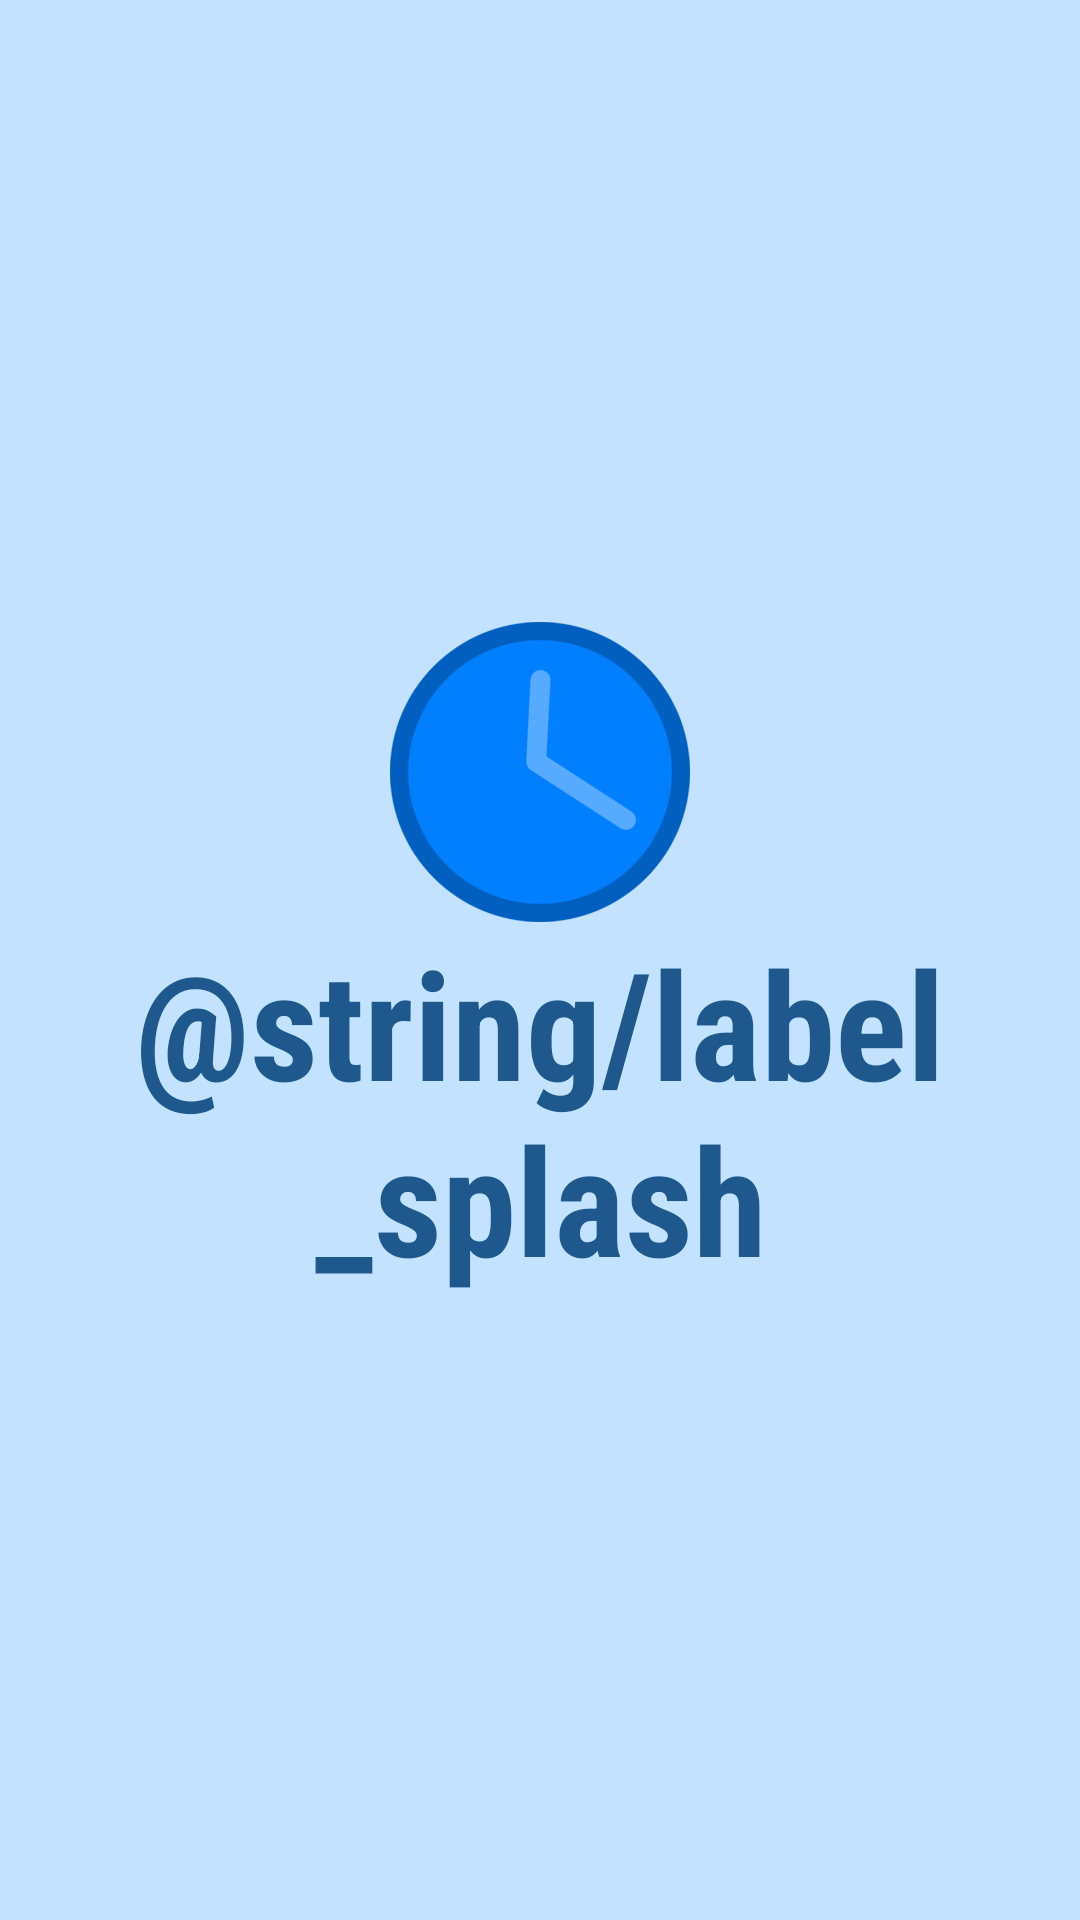

Screen size 1080w x 1920h. Icon name, then its center in pixels as [x,y]:
clock md: [540,772]
